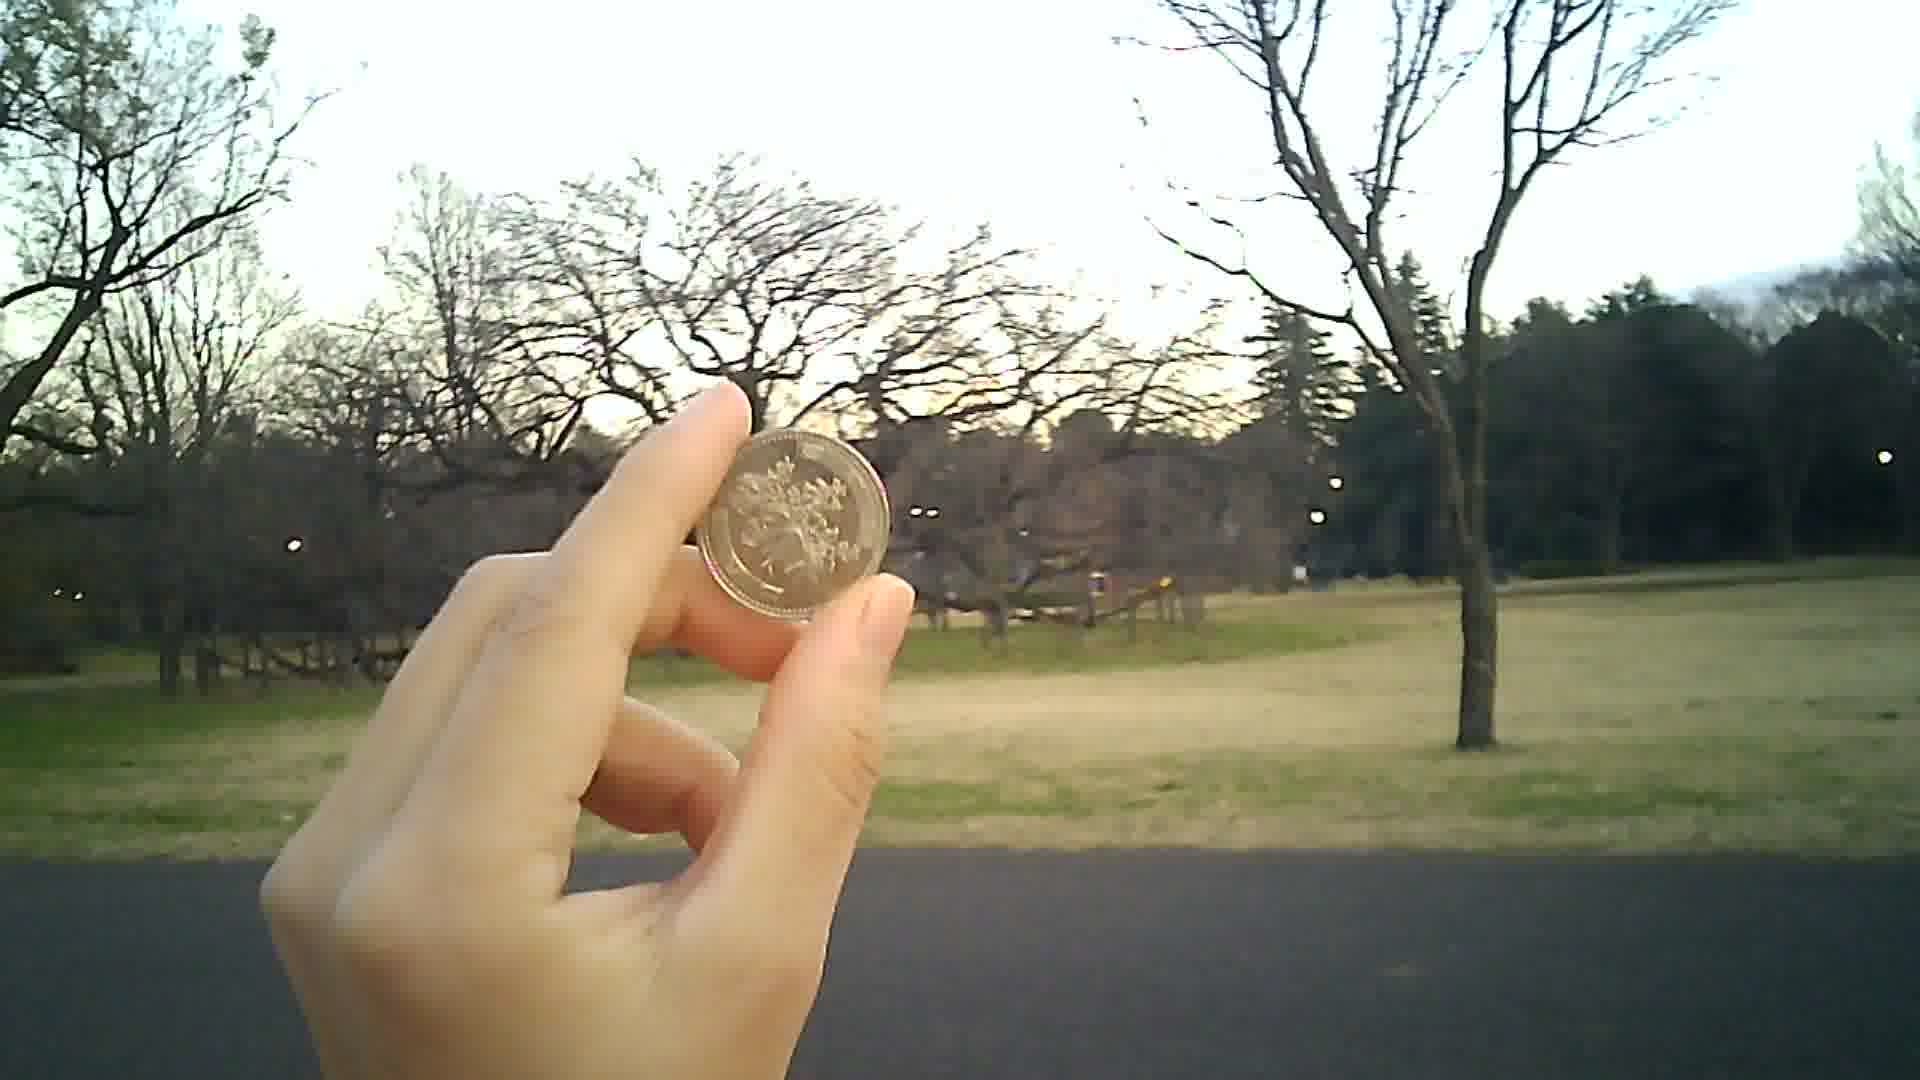500 Yen: (694, 419, 899, 618)
